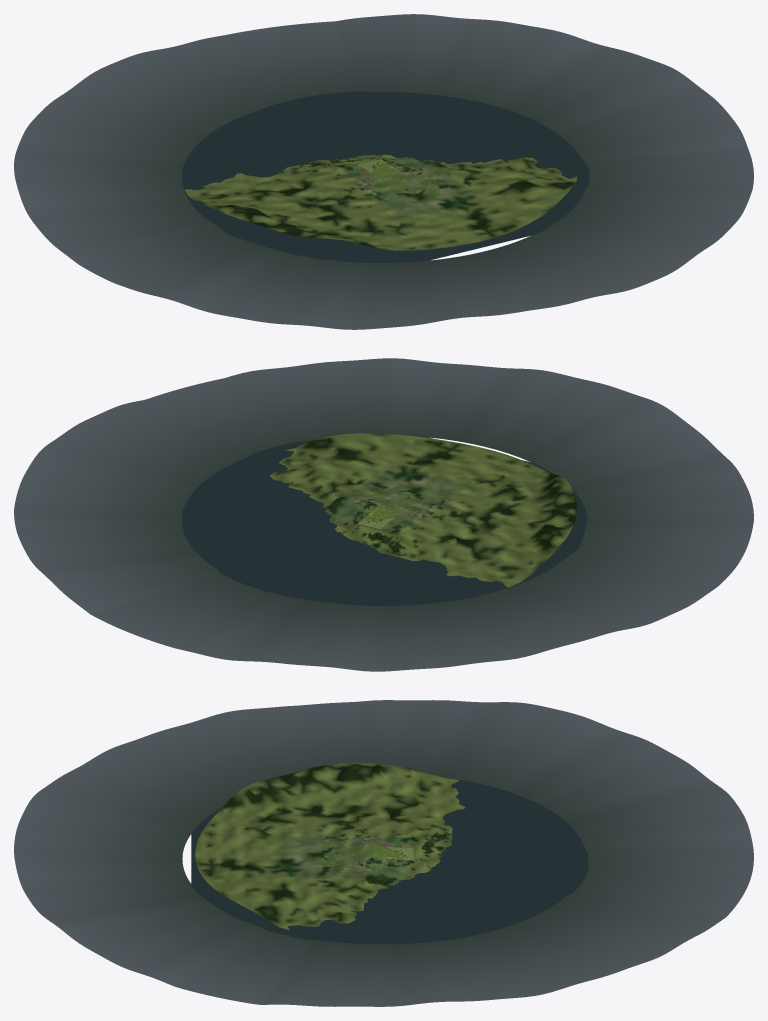
The model's file is byneset_south_02.glb.
The picture shows the model from 3 angles, top to bottom: view 1: azimuth 30°, elevation 25°; view 2: azimuth 150°, elevation 25°; view 3: azimuth 270°, elevation 25°; orthographic projection.
Visible parts, largest first — view 1: FAR_Horizon, WATER_Sea, SURF_Far, FAR_Trees; view 2: FAR_Horizon, SURF_Far, WATER_Sea, FAR_Trees; view 3: FAR_Horizon, SURF_Far, WATER_Sea, FAR_Trees.
Boxes of the visible parts, x1=… form: FAR_Horizon: x1=14, y1=14, x2=753, y2=329; WATER_Sea: x1=182, y1=91, x2=589, y2=262; SURF_Far: x1=185, y1=154, x2=577, y2=250; FAR_Trees: x1=292, y1=155, x2=470, y2=205; FAR_Horizon: x1=14, y1=358, x2=753, y2=671; SURF_Far: x1=269, y1=433, x2=577, y2=587; WATER_Sea: x1=182, y1=435, x2=587, y2=605; FAR_Trees: x1=327, y1=478, x2=469, y2=556; FAR_Horizon: x1=14, y1=700, x2=753, y2=1006; SURF_Far: x1=195, y1=763, x2=465, y2=930; WATER_Sea: x1=191, y1=777, x2=588, y2=944; FAR_Trees: x1=313, y1=822, x2=449, y2=886.
Bounding box in the file's own units: 11200 × 273 × 11200.
32 materials, 18 textured.
